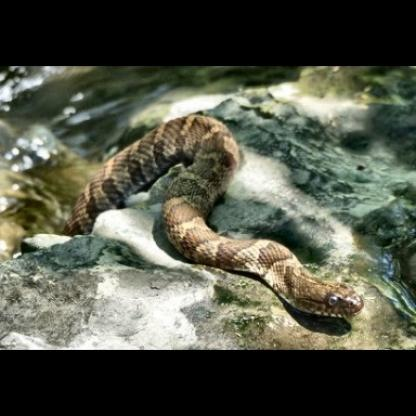Snake: (4, 110, 416, 320)
